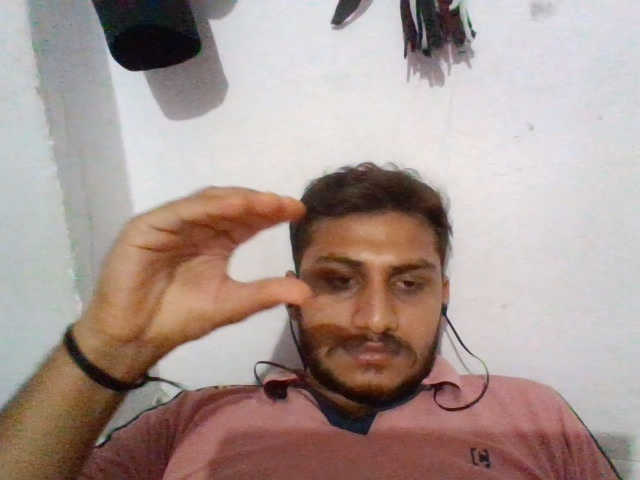No: (85, 169, 321, 345)
